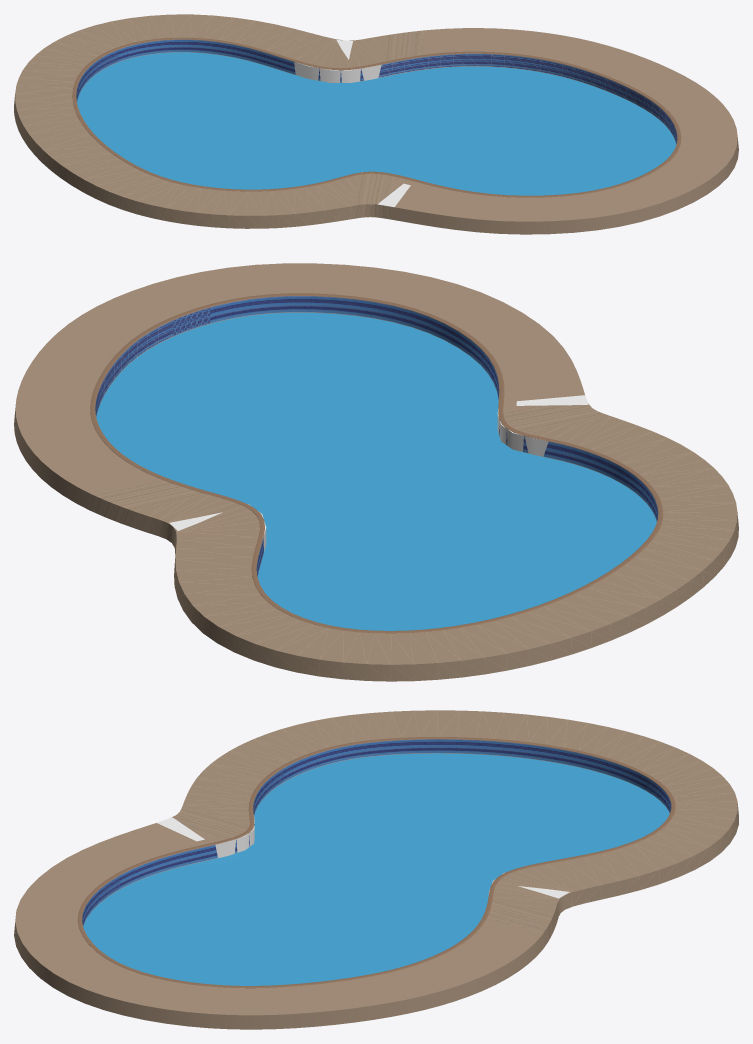
File: objects_un_t04pool01.gltf
3 renders of one model, top to bottom at view 1: azimuth 30°, elevation 25°; view 2: azimuth 150°, elevation 25°; view 3: azimuth 270°, elevation 25°, orthographic. The views are drawn at different scales.
Parts seen in each view (by area): view 1: um_objects_un_t04pool01_model_lod0Shape:objects_un_t02hotelp (×2), um_objects_un_t04pool01_model_lod0Shape:objects_un_t02hotelt, um_objects_un_t04pool01_model_lod0Shape:objects_un_t04pool01; view 2: um_objects_un_t04pool01_model_lod0Shape:objects_un_t02hotelp (×2), um_objects_un_t04pool01_model_lod0Shape:objects_un_t02hotelt, um_objects_un_t04pool01_model_lod0Shape:objects_un_t04pool01; view 3: um_objects_un_t04pool01_model_lod0Shape:objects_un_t02hotelp (×2), um_objects_un_t04pool01_model_lod0Shape:objects_un_t02hotelt, um_objects_un_t04pool01_model_lod0Shape:objects_un_t04pool01.
Part boxes in pixels (x1,y1,x2,y2): um_objects_un_t04pool01_model_lod0Shape:objects_un_t02hotelp (×2): (72,37,681,197); um_objects_un_t04pool01_model_lod0Shape:objects_un_t02hotelt: (14,14,738,234); um_objects_un_t04pool01_model_lod0Shape:objects_un_t04pool01: (294,40,410,207); um_objects_un_t04pool01_model_lod0Shape:objects_un_t02hotelp (×2): (90,293,663,633); um_objects_un_t04pool01_model_lod0Shape:objects_un_t02hotelt: (14,263,738,681); um_objects_un_t04pool01_model_lod0Shape:objects_un_t04pool01: (169,395,591,551); um_objects_un_t04pool01_model_lod0Shape:objects_un_t02hotelp (×2): (77,737,675,988); um_objects_un_t04pool01_model_lod0Shape:objects_un_t02hotelt: (14,710,738,1029); um_objects_un_t04pool01_model_lod0Shape:objects_un_t04pool01: (157,817,569,898).
Size of what is drawn, in the model's own units: 65.94 by 3.33 by 66.04.
Materials: 4 (3 with a texture image).
